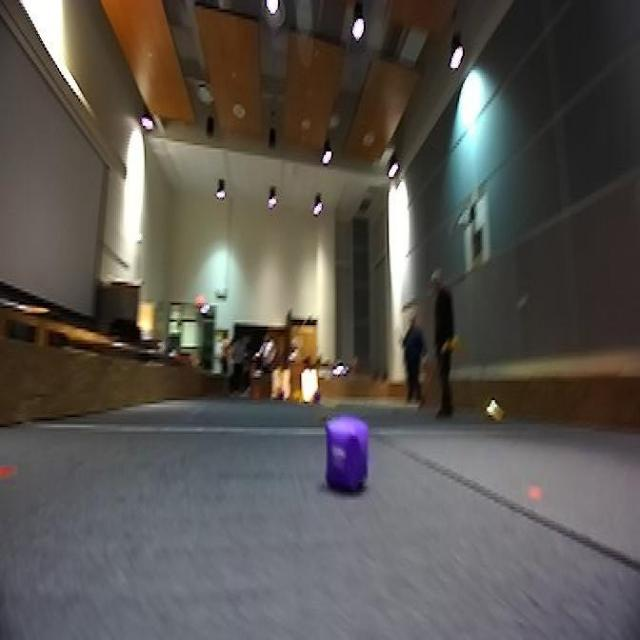frc_cone: (486, 394, 506, 421), (442, 334, 461, 356), (284, 386, 306, 404)
frc_cube: (322, 415, 368, 494), (272, 386, 287, 404), (312, 388, 325, 405)
